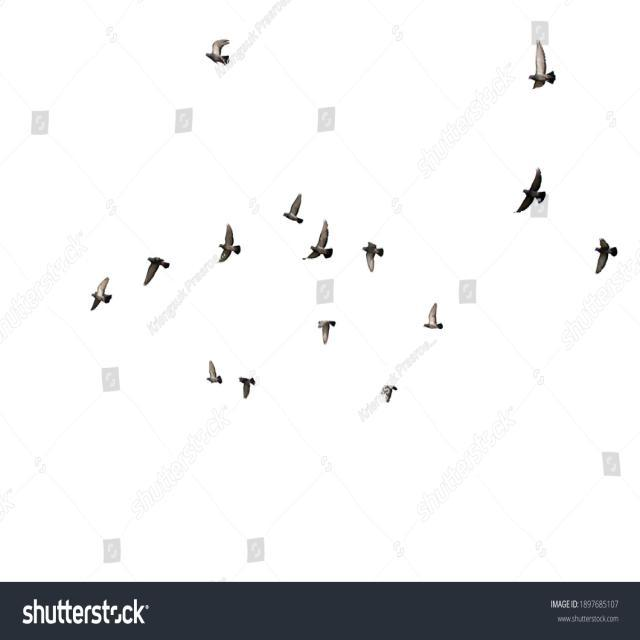bird: (476, 0, 577, 122), (579, 210, 640, 393), (498, 131, 560, 229), (407, 264, 457, 362), (129, 213, 187, 296), (176, 338, 236, 398), (206, 199, 248, 278), (292, 216, 346, 270), (263, 170, 305, 232), (232, 365, 278, 416), (307, 289, 347, 346), (198, 25, 244, 72), (86, 245, 114, 310), (364, 362, 402, 400), (360, 217, 384, 270)
